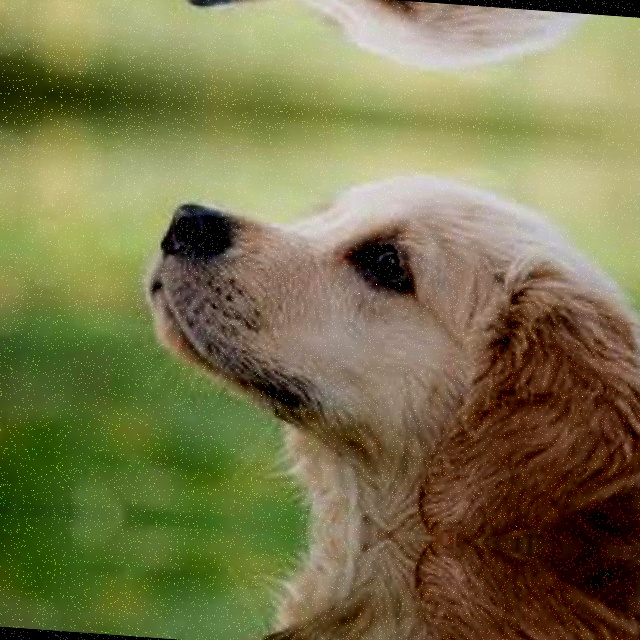dog: (126, 125, 640, 555), (120, 515, 640, 640), (147, 0, 640, 116)
